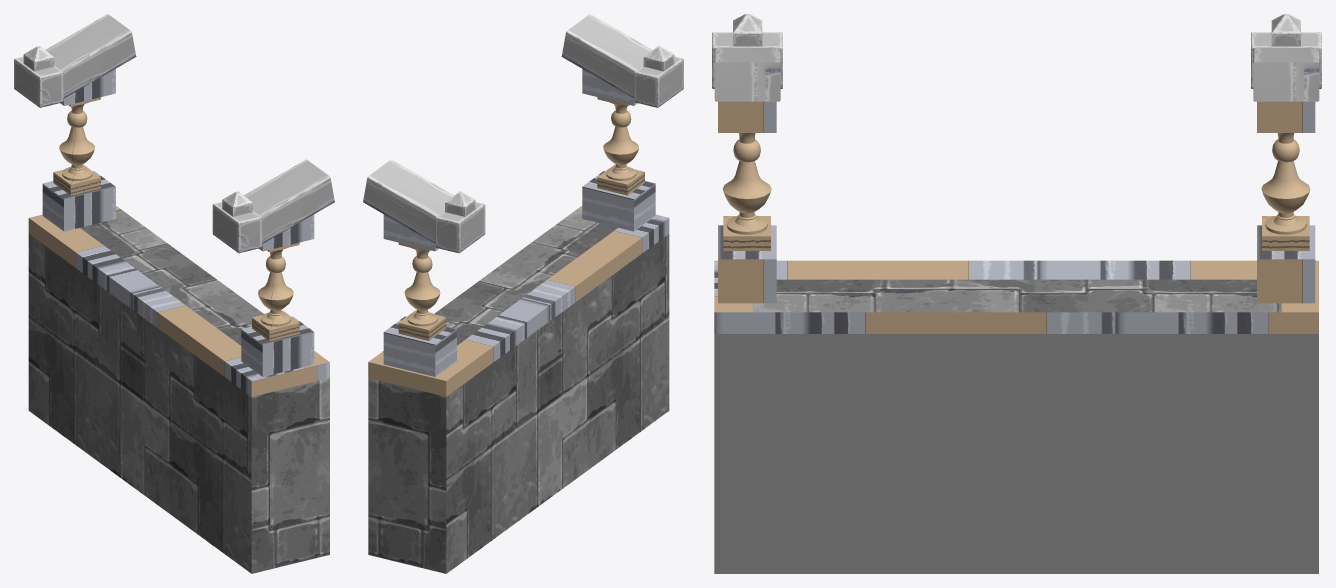
Rendered from Puente_balostres_Step.fbx.
The picture shows the model from 3 angles, left to right: view 1: azimuth 30°, elevation 25°; view 2: azimuth 150°, elevation 25°; view 3: azimuth 270°, elevation 25°; orthographic projection. The views are drawn at different scales.
Visible parts, largest first — view 1: Puente_Balostres_step_LOD0; view 2: Puente_Balostres_step_LOD0; view 3: Puente_Balostres_step_LOD0.
Part boxes in pixels (box(x1,y1,x2,y2)): Puente_Balostres_step_LOD0: box(14, 14, 334, 573); Puente_Balostres_step_LOD0: box(363, 14, 683, 573); Puente_Balostres_step_LOD0: box(712, 14, 1321, 573).
Size of what is drawn, in the model's own units: 75.63 by 280 by 302.
